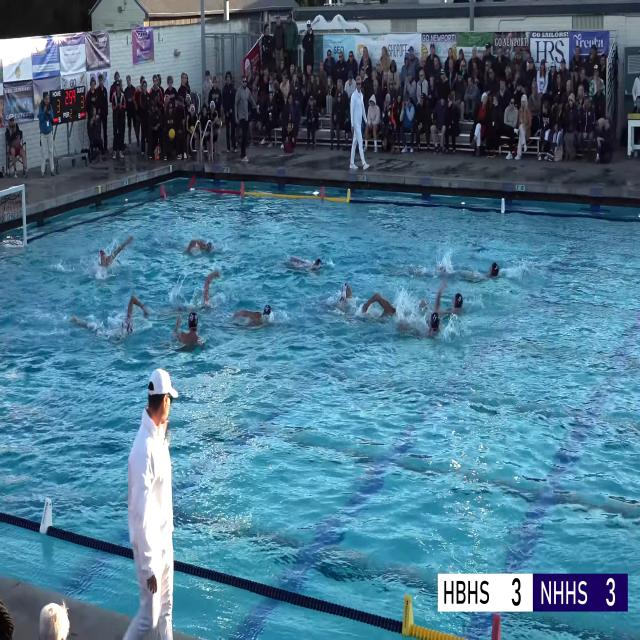ball: (169, 128, 175, 139), (190, 125, 194, 132)
